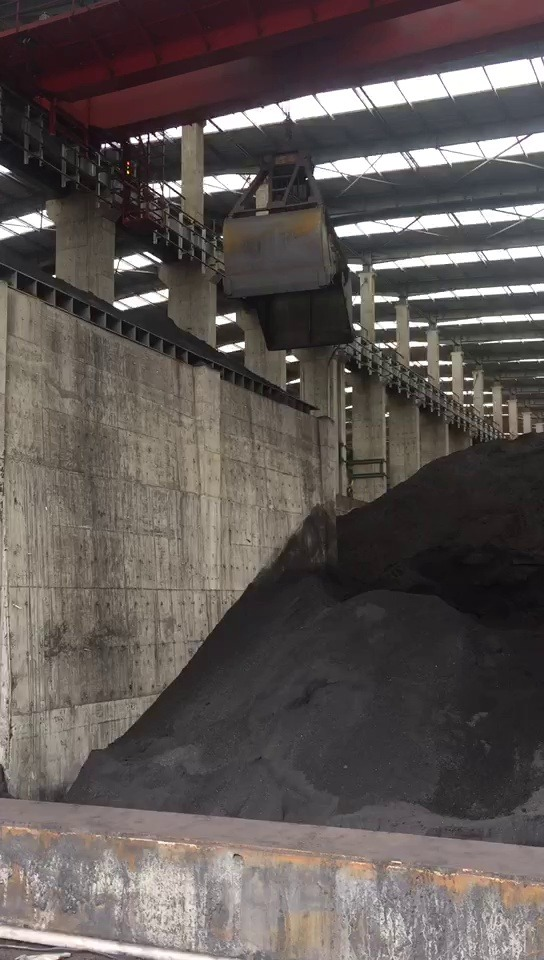grab: (212, 126, 364, 357)
